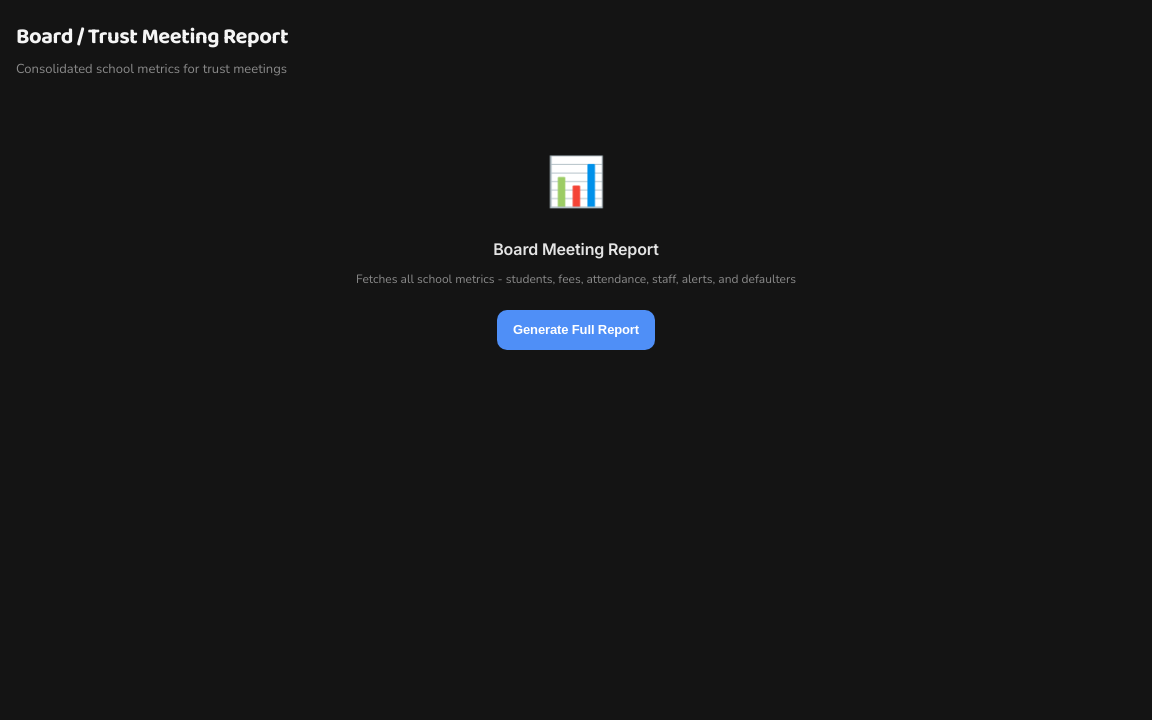
a second failure reads differently from the first
Click the button with test id "board-generate": (576, 330) [497,310,655,350]
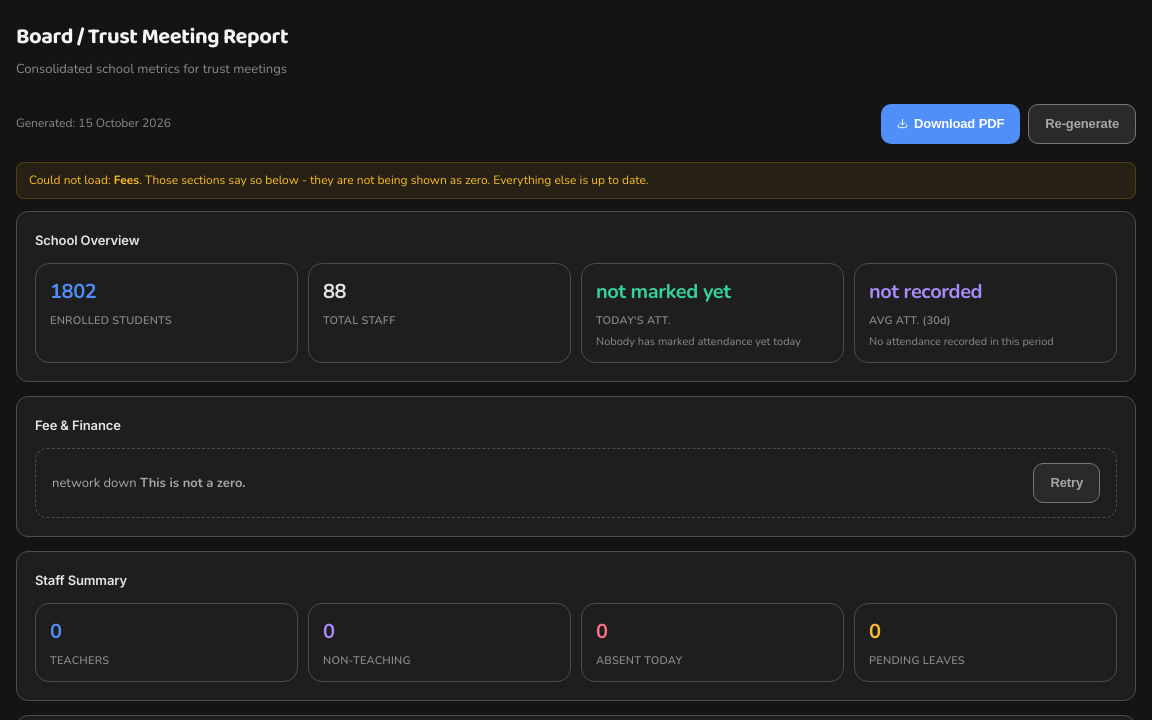
Check: the message "network down This is not a zero. Retry" is shown, box [35,448,1117,518]
Click the button "Retry": (1067, 483) [1033,463,1100,503]
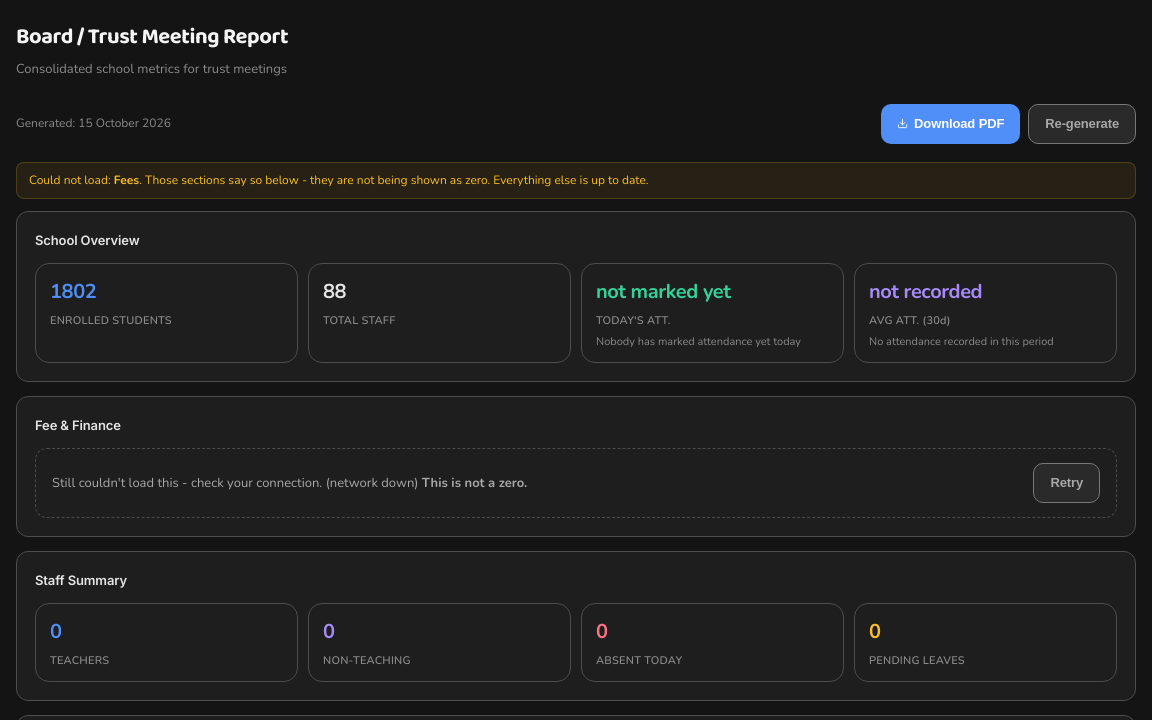
Check: the message with test id "board-section-error-fee" shows "Still couldn't load", box [52,474,418,492]
